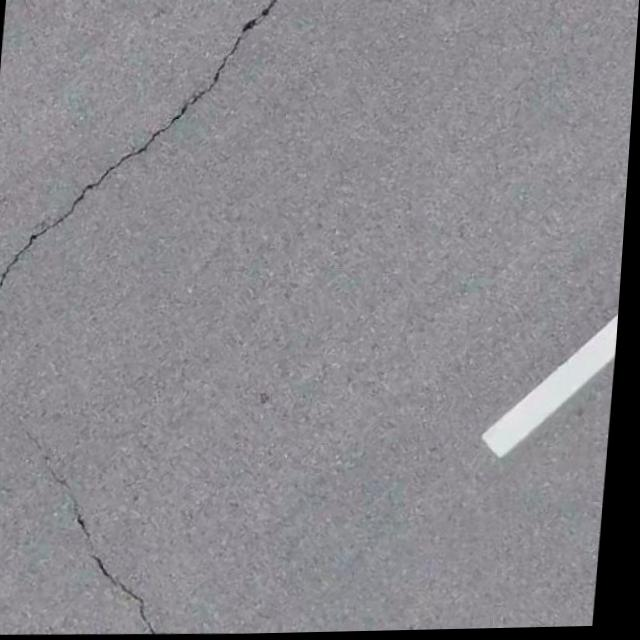Crack: (15, 437, 233, 633), (63, 70, 195, 221), (175, 0, 279, 122), (0, 209, 95, 326)
